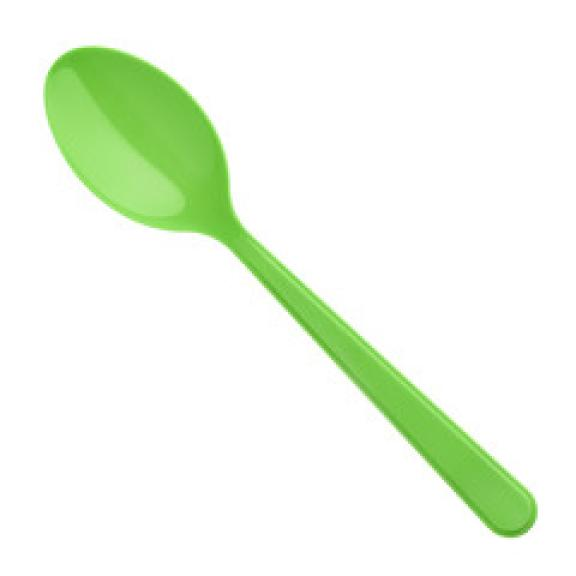Plastik: (46, 48, 535, 535)
